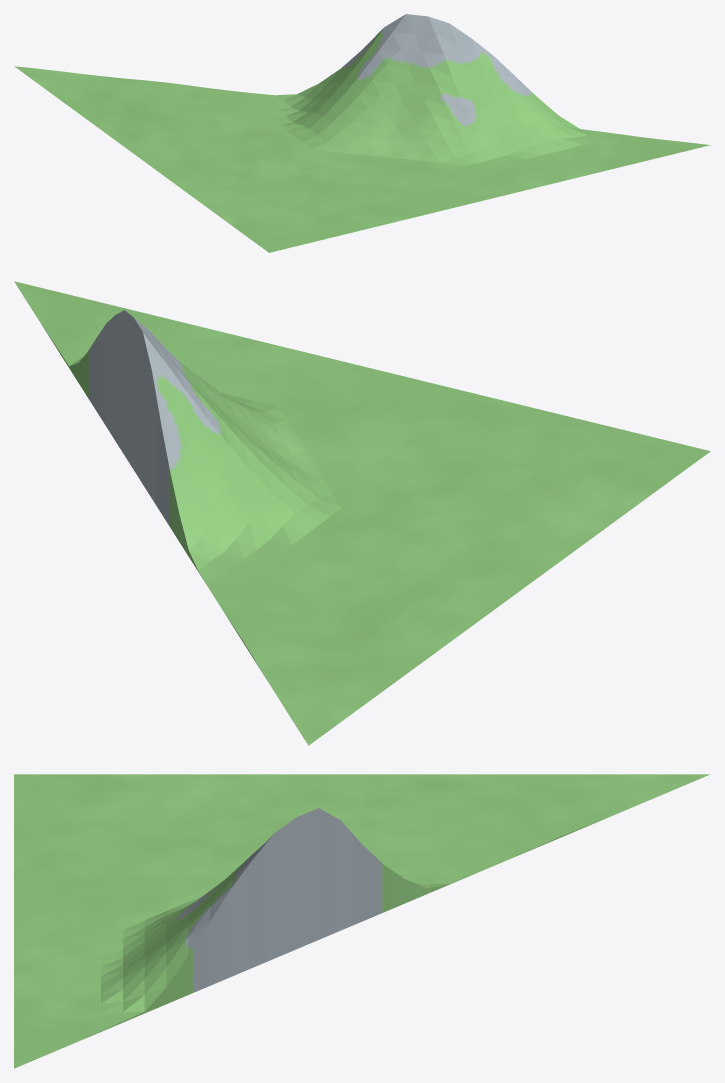
File: Grass_RockyMountains_03_NW.obj
The picture shows the model from 3 angles, top to bottom: view 1: azimuth 30°, elevation 25°; view 2: azimuth 150°, elevation 25°; view 3: azimuth 270°, elevation 25°; orthographic projection. The views are drawn at different scales.
Size of the model in its own units: 10 by 2.09 by 10.
1 material, 1 textured.
